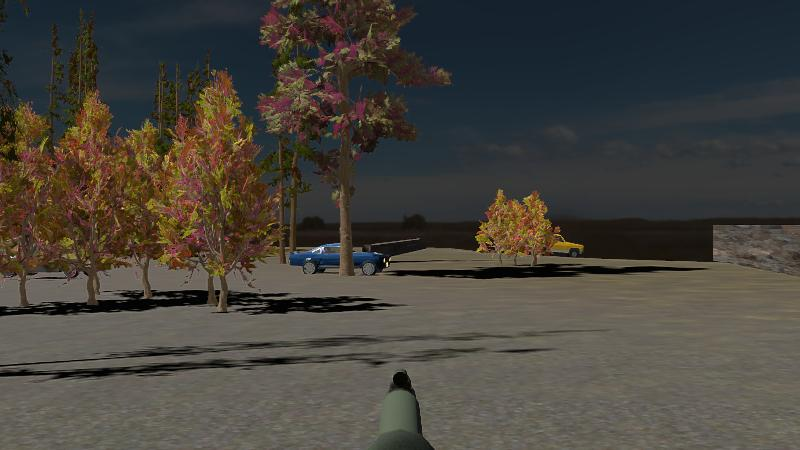Tank: (365, 235, 424, 258), (367, 236, 424, 257)
car: (289, 240, 390, 276), (544, 233, 585, 259)
